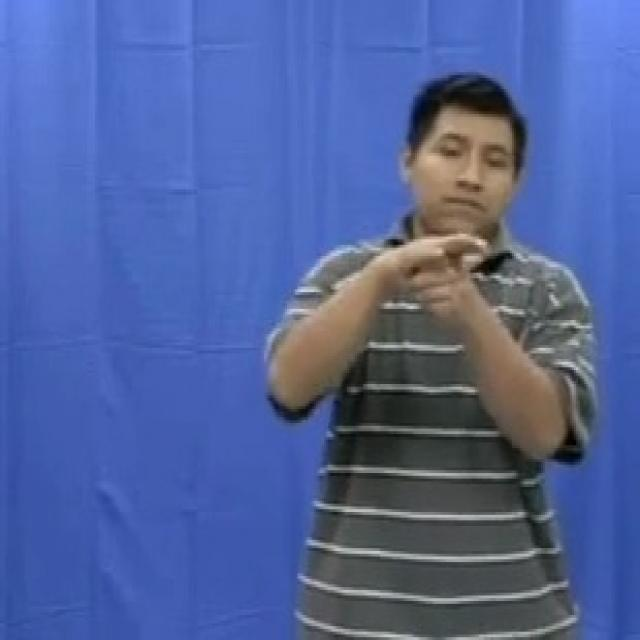coke: (356, 184, 505, 384)
